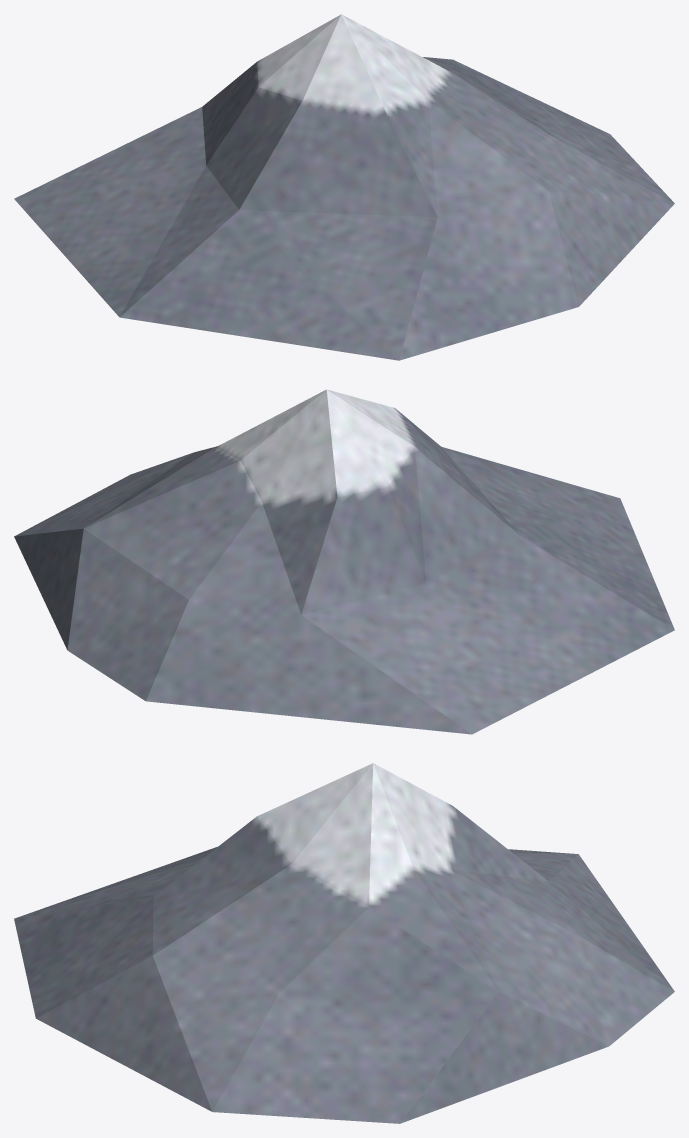
The model's file is SM_Mountain_C.fbx.
3 views of the same model, one above another, from view 1: azimuth 30°, elevation 25°; view 2: azimuth 150°, elevation 25°; view 3: azimuth 270°, elevation 25° (orthographic). The views are drawn at different scales.
Visible parts, largest first — view 1: SM_Mountain_C; view 2: SM_Mountain_C; view 3: SM_Mountain_C.
Boxes of the visible parts, x1,y1,x2,y2 form: SM_Mountain_C: (14, 14, 674, 360); SM_Mountain_C: (14, 389, 674, 734); SM_Mountain_C: (14, 763, 674, 1123).
Size of the model in its own units: 67651 by 23000 by 64692.
1 material, 1 textured.
